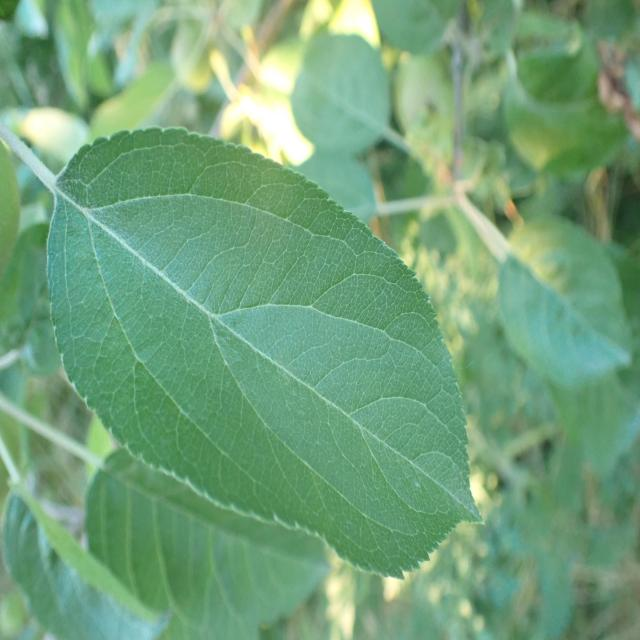healthy: (47, 125, 484, 580), (84, 444, 329, 638), (1, 490, 172, 640), (497, 213, 636, 387)
